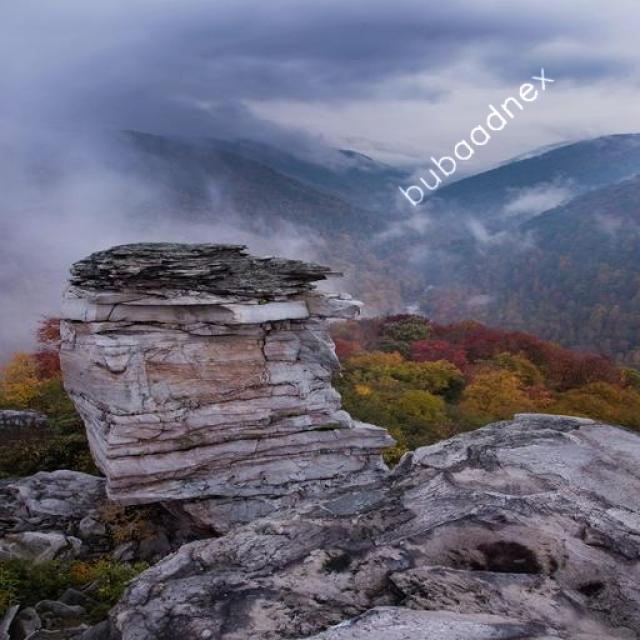watermark: (402, 51, 555, 214)
